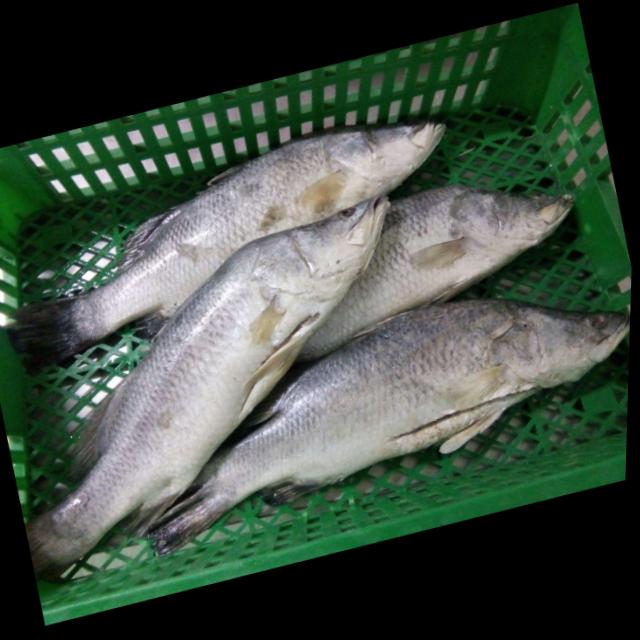Seabass: (0, 190, 452, 583), (108, 250, 632, 555), (0, 99, 476, 377), (250, 154, 592, 370)
